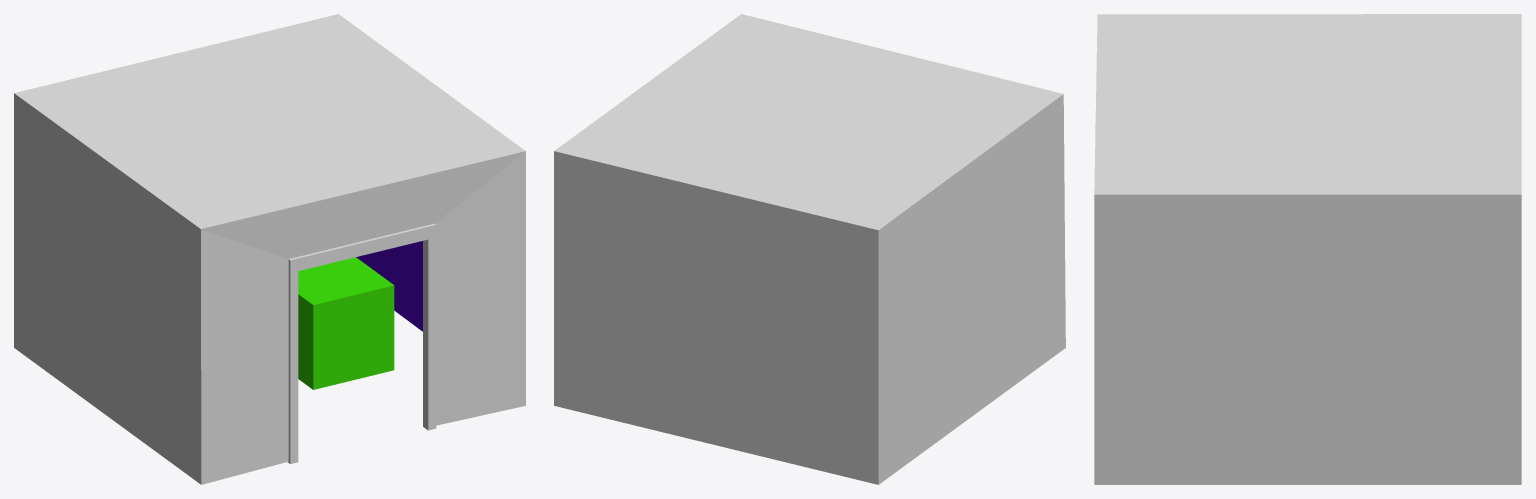
Rendered from artifact3.glb.
3 views of the same model, side by side, from view 1: azimuth 30°, elevation 25°; view 2: azimuth 150°, elevation 25°; view 3: azimuth 270°, elevation 25° (orthographic). The views are drawn at different scales.
Visible parts, largest first — view 1: clipCube, greenCube, door, envCube; view 2: clipCube; view 3: clipCube.
Boxes of the visible parts, left/top/right/bottom form: clipCube: left=14, top=14, right=525, bottom=484; greenCube: left=298, top=257, right=394, bottom=389; door: left=287, top=223, right=436, bottom=463; envCube: left=356, top=241, right=422, bottom=331; clipCube: left=554, top=14, right=1065, bottom=484; clipCube: left=1094, top=14, right=1521, bottom=484.
Size of the model in its own units: 4 by 3.01 by 4.
